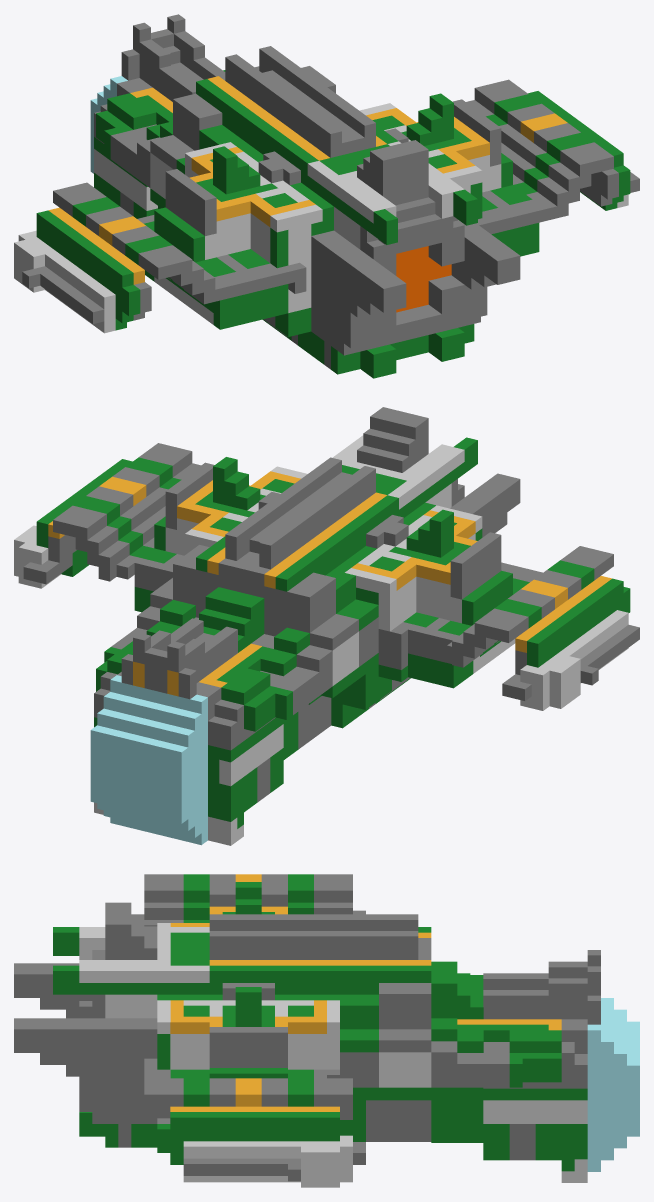
File: 1 Ship.obj
3 views of the same model, one above another, from view 1: azimuth 30°, elevation 25°; view 2: azimuth 150°, elevation 25°; view 3: azimuth 270°, elevation 25° (orthographic).
Visible parts, largest first — view 1: 1 Ship; view 2: 1 Ship; view 3: 1 Ship.
Boxes of the visible parts, x1,y1,x2,y2 form: 1 Ship: (14, 14, 639, 378); 1 Ship: (14, 407, 639, 845); 1 Ship: (14, 874, 639, 1187).
Bounding box in the file's own units: 50 × 20 × 48.
1 material, 1 textured.
